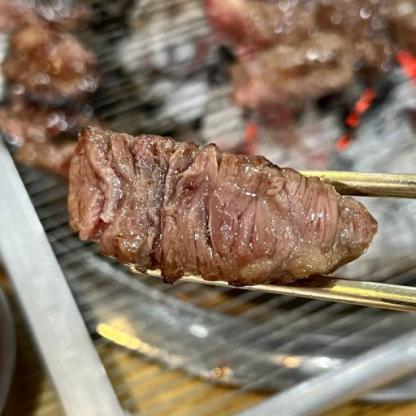Carne: (61, 126, 378, 285)
